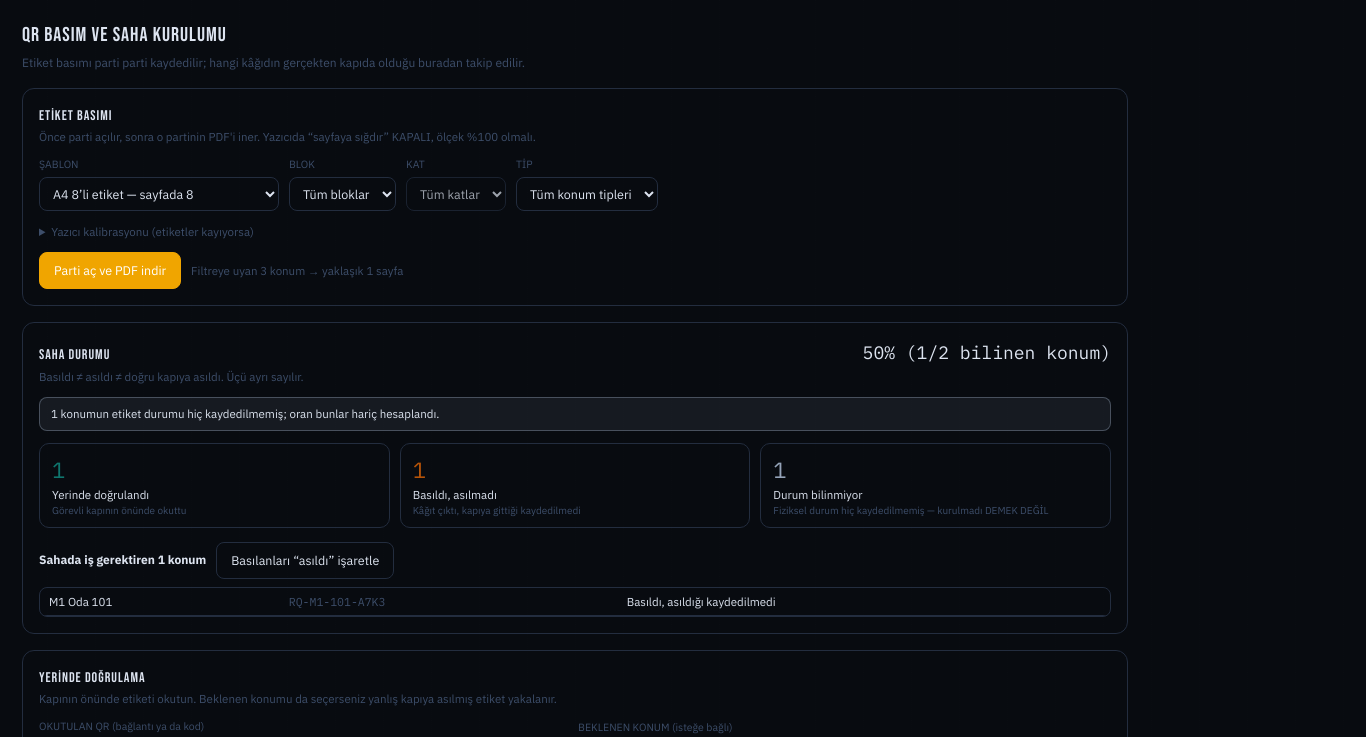
Scenario: QR basım ve kurulum ekranı › parti açıldığında PDF ister
Click the button "Parti aç ve PDF indir" at [110, 271], box x1=39 y1=252 x2=181 y2=289
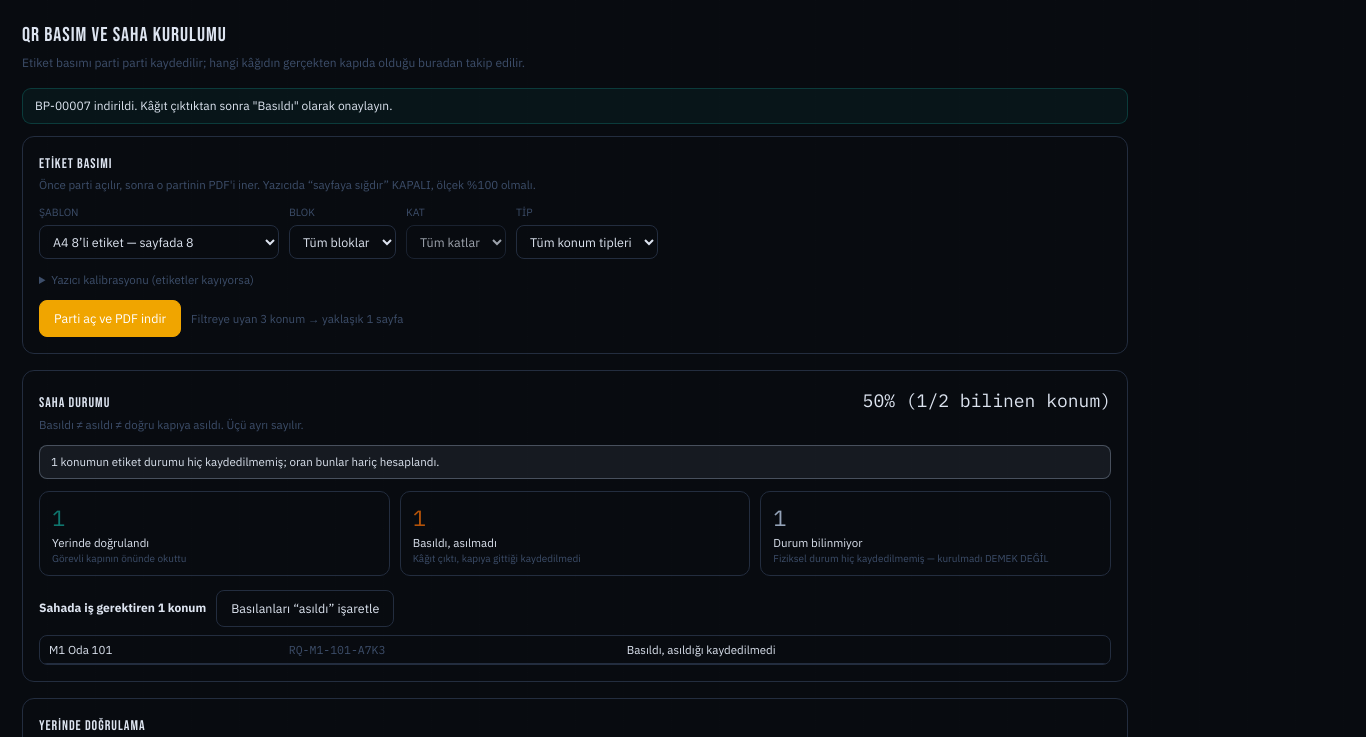
Now the text "BP-00007" is shown, box x1=35 y1=98 x2=392 y2=113
